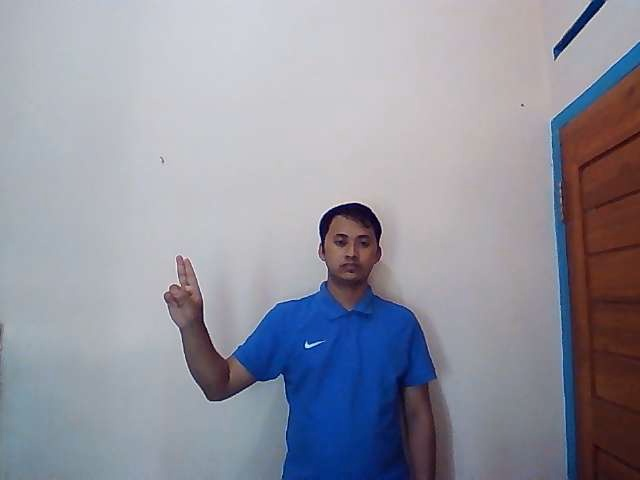U: (162, 254, 204, 330)
